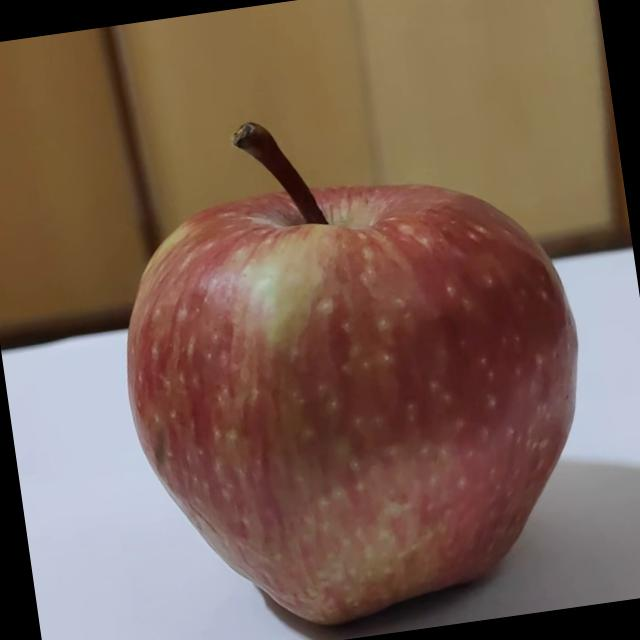apple: (87, 68, 613, 640)
